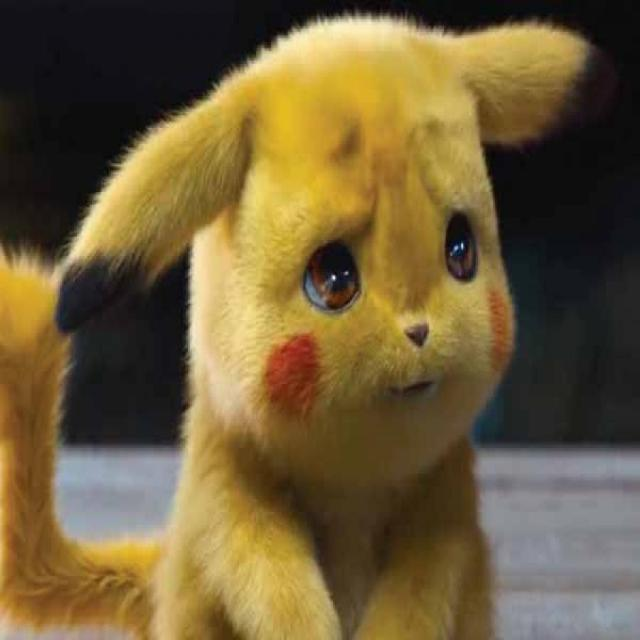pikachu: (0, 12, 591, 639)
